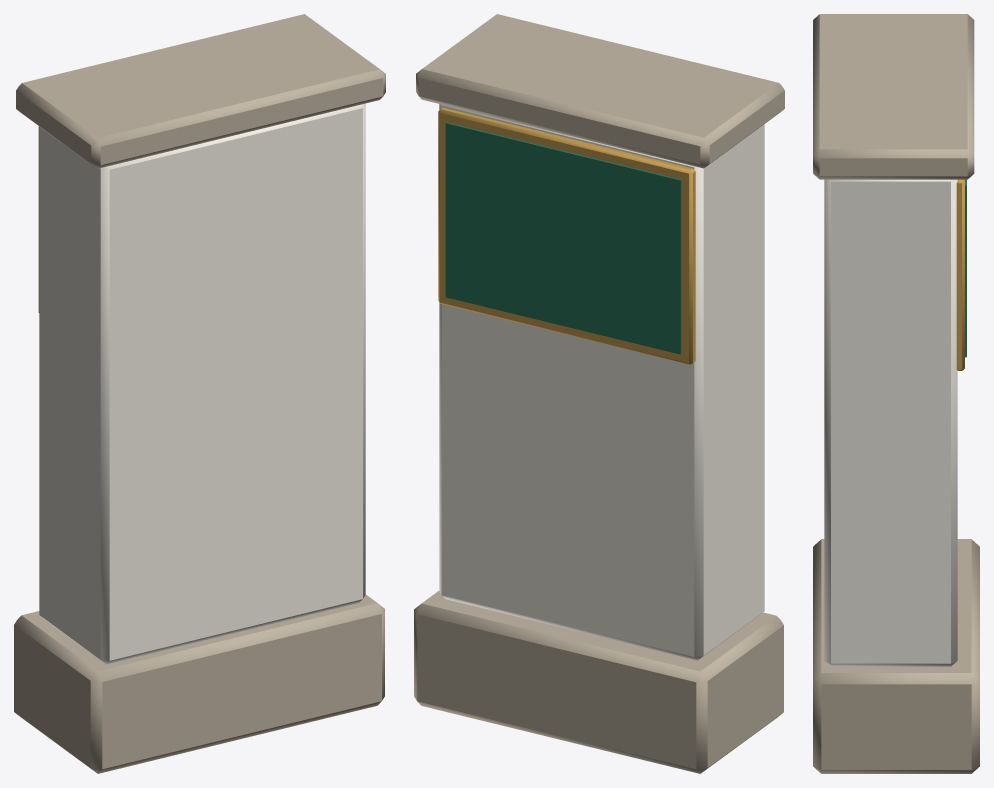
File: plaque.glb
3 renders of one model, left to right at view 1: azimuth 30°, elevation 25°; view 2: azimuth 150°, elevation 25°; view 3: azimuth 270°, elevation 25°, orthographic.
Visible parts, largest first — view 1: body; view 2: body; view 3: body.
Boxes of the visible parts, bbox=[...] form: body: bbox=[14, 14, 385, 773]; body: bbox=[414, 14, 784, 773]; body: bbox=[813, 14, 979, 773].
Size of the model in its own units: 0.6 by 1.24 by 0.3.
